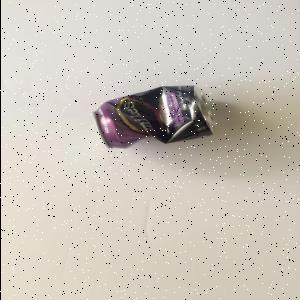Can: (92, 86, 220, 151)
